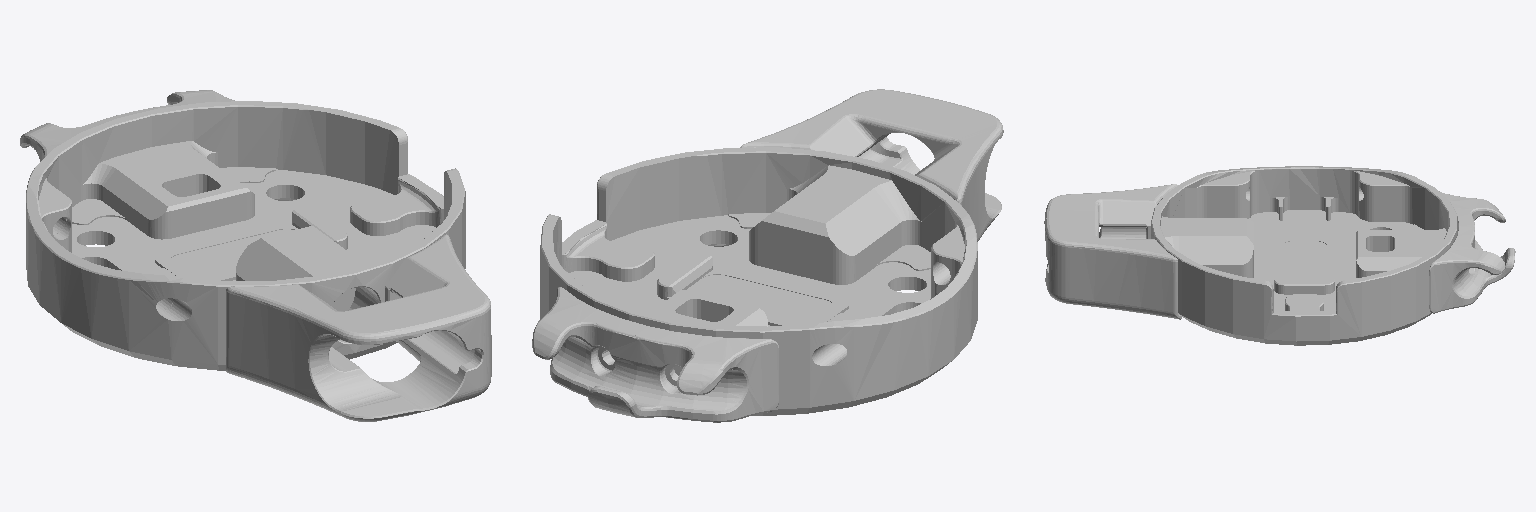
URDF robot description (onrobot_quick_changer_model):
<?xml version="1.0"?>
<robot name="onrobot_quick_changer_model">
    <link name="onrobot_quick_changer_base_link">
        <inertial>
            <origin rpy="0 0 0" xyz="0.0 0.0 0.0" />
            <mass value="0.06"/>
            <inertia ixx="1.0E-03" ixy="1.0E-06" ixz="1.0E-06" iyy="1.0E-03" iyz="1.0E-06"
                izz="1.0E-03" />
        </inertial>
        <visual>
            <origin rpy="0 0 0" xyz="0 0 0" />
            <geometry>
                <mesh filename="package://par_pkg/meshes/visual/quick_changer.stl" />
            </geometry>
            <material name="">
                <color rgba="0.8 0.8 0.8 1" />
            </material>
        </visual>
        <collision>
            <origin rpy="0 0 0" xyz="0 0 0" />
            <geometry>
                <mesh filename="package://par_pkg/meshes/collision/quick_changer.stl" />
            </geometry>
        </collision>
    </link>
    <link name="onrobot_quick_changer_tool_link"/>
    <joint name="onrobot_quick_changer_joint" type="fixed">
        <origin rpy="0 0 0" xyz="0 0 0.0021"/>
        <parent link="onrobot_quick_changer_base_link"/>
        <child link="onrobot_quick_changer_tool_link"/>
        <axis xyz="0 0 0"/>
    </joint>
</robot>

--- Facts derived from the render (not from the file) ---
The picture shows the robot from 3 angles, left to right: view 1: azimuth 30°, elevation 25°; view 2: azimuth 150°, elevation 25°; view 3: azimuth 270°, elevation 25°; orthographic projection.
Model onrobot_quick_changer_model with 2 links and 1 joints (1 fixed), rooted at onrobot_quick_changer_base_link, posed all joints at 0.
Links seen in each view (by area): view 1: onrobot_quick_changer_base_link; view 2: onrobot_quick_changer_base_link; view 3: onrobot_quick_changer_base_link.
Link boxes in pixels (<box>): onrobot_quick_changer_base_link: <box>20,90,491,421</box>; onrobot_quick_changer_base_link: <box>532,89,1003,422</box>; onrobot_quick_changer_base_link: <box>1044,166,1515,345</box>.
Size in the robot's own frame: 0.0709 by 0.1088 by 0.017 metres.
1 mesh visuals loaded from 1 distinct referenced files (1 binary STL).